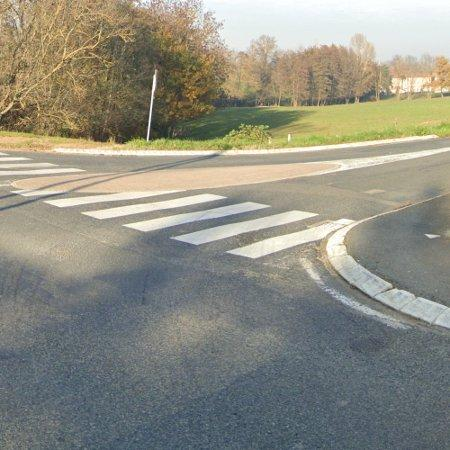crosswalks: (0, 154, 352, 263)
